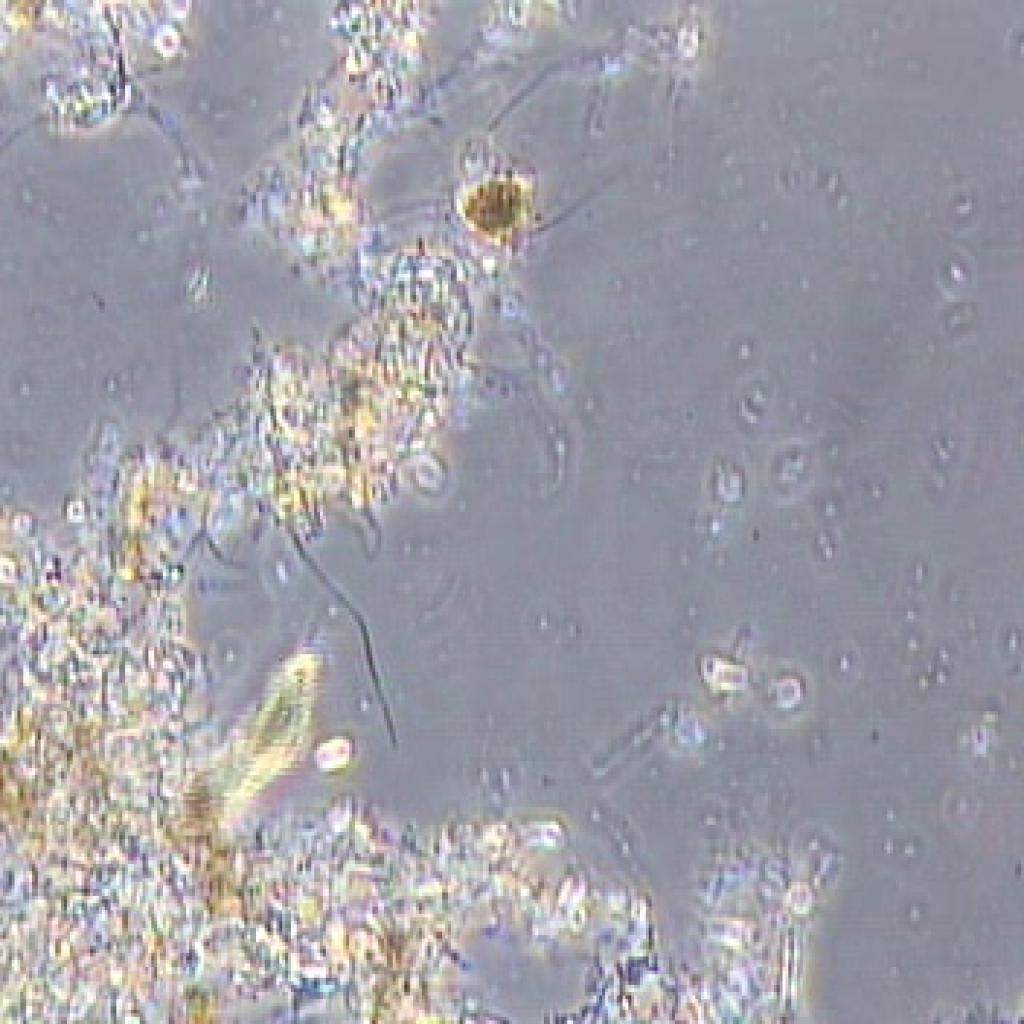Chaetonotus: (168, 651, 328, 832)
